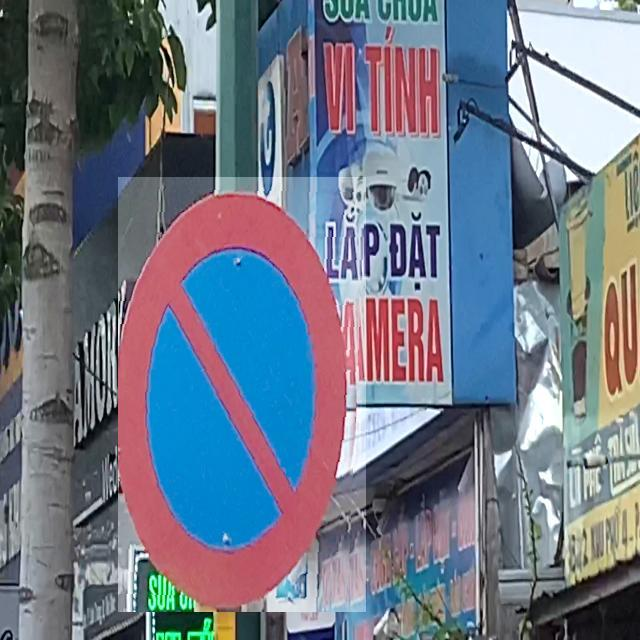P-131a: (118, 177, 366, 612)
